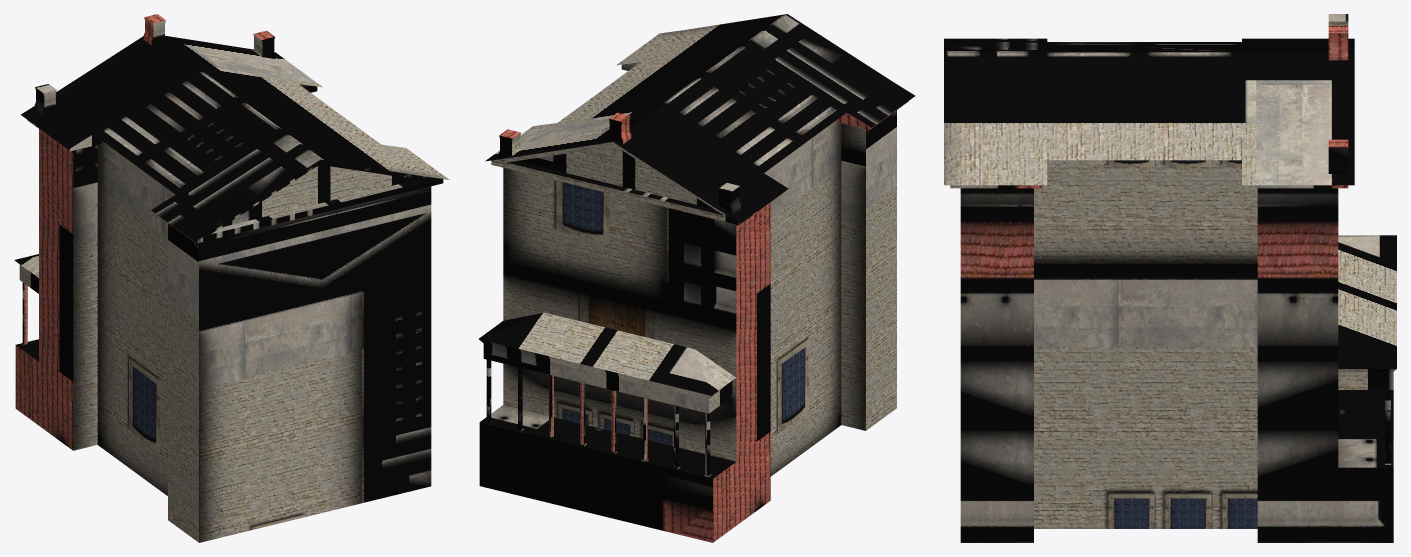
File: curia.obj
3 views of the same model, side by side, from view 1: azimuth 30°, elevation 25°; view 2: azimuth 150°, elevation 25°; view 3: azimuth 270°, elevation 25° (orthographic). The views are drawn at different scales.
Bounding box in the file's own units: 479 × 679 × 624.
